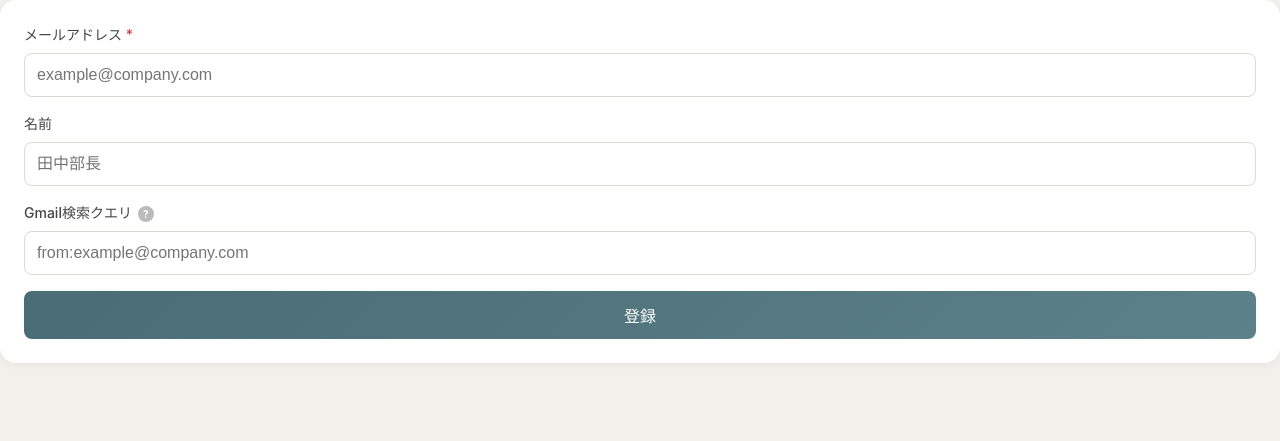
it: ContactForm › バリデーション › should show error for empty email
This screenshot has width=1280, height=441.
Click the button "登録": (640, 315) x1=24 y1=291 x2=1256 y2=339
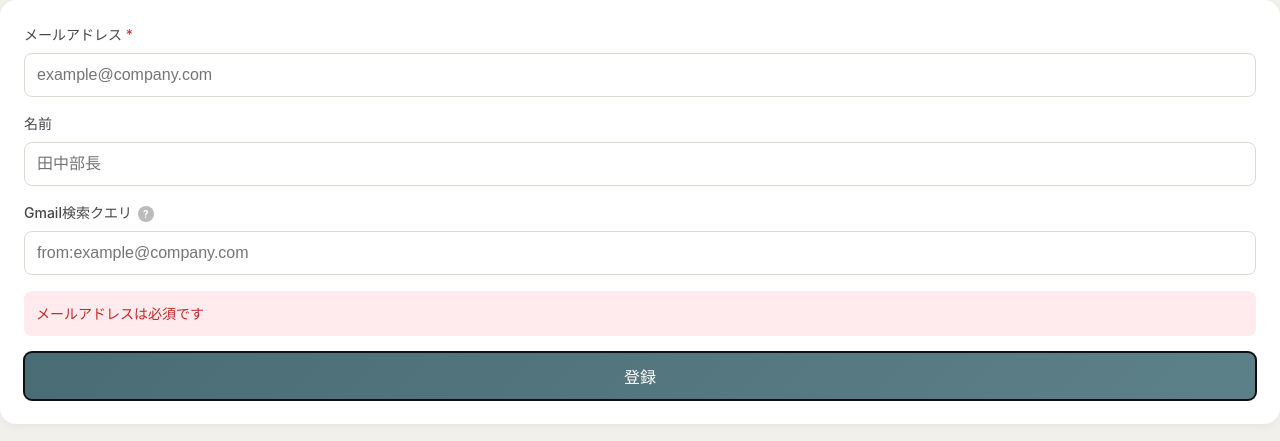
Expected: the text "メールアドレスは必須です" is shown, x1=24 y1=291 x2=1256 y2=336
